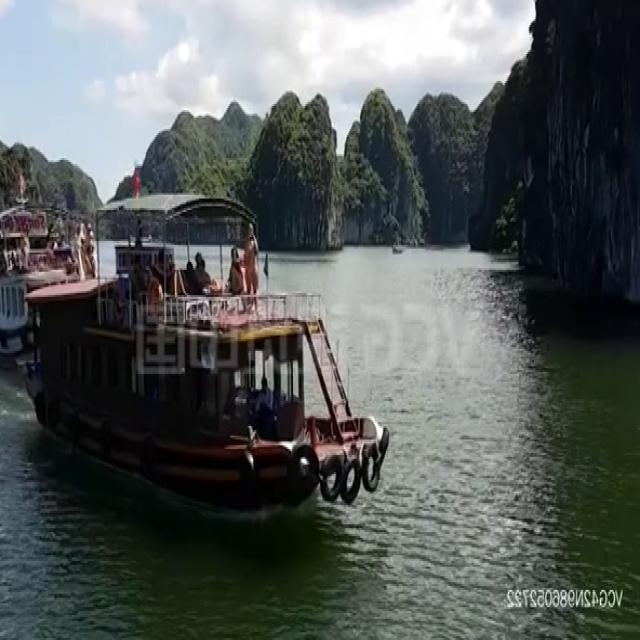passenger ship: (39, 174, 383, 498), (0, 162, 94, 351)
